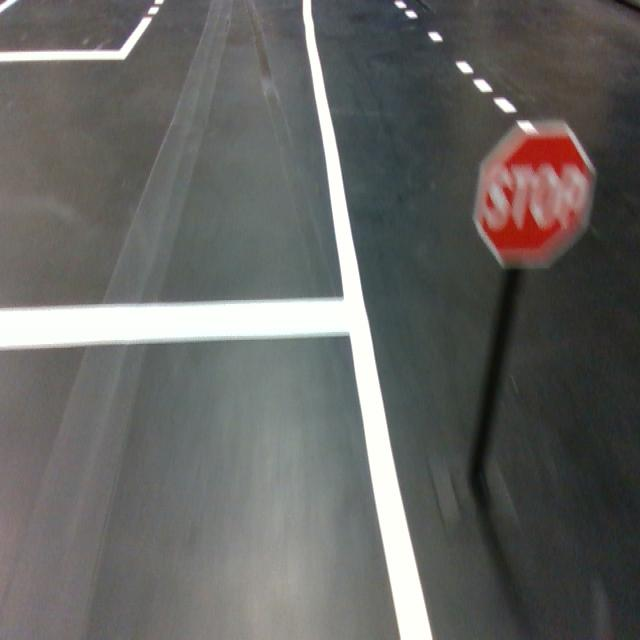stop-sign: (473, 132, 598, 270)
